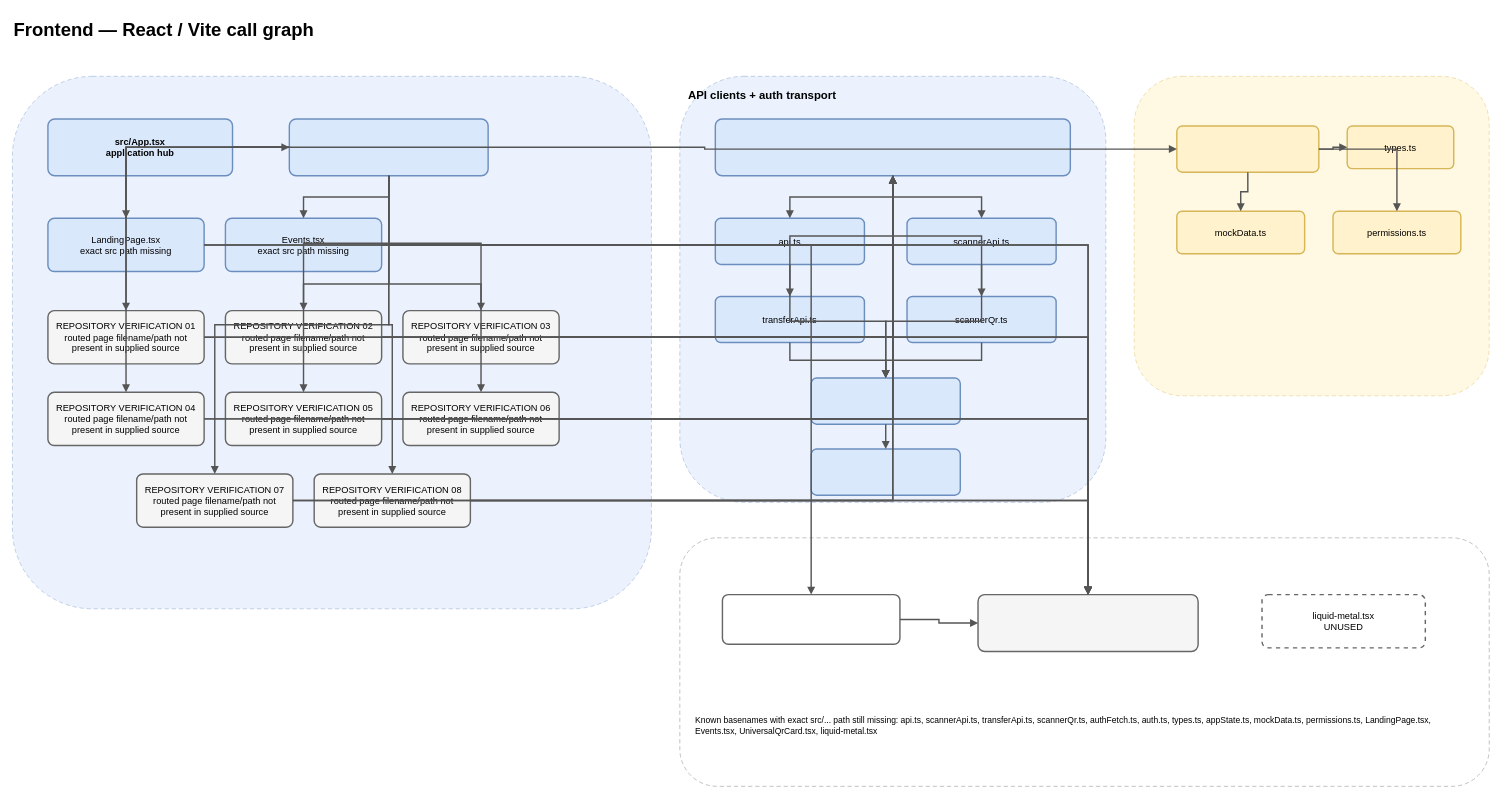
This 1502x799 diagram has some shape labels left out. The shapes that lost their labels are listed below. From the top down, each one's box as (x1, y1, x2, y2) in pixels, then its label:
(288, 118, 488, 176): Router / route declarations in App.tsx
(714, 118, 1071, 176): Documentation mapping pending Page → API client imports need repository scan
(1176, 125, 1319, 173): appState.ts
(1134, 76, 1489, 396): State spine
(12, 76, 651, 609): Routing / pages
(810, 377, 961, 425): authFetch.ts
(810, 448, 961, 496): auth.ts
(721, 594, 900, 645): UniversalQrCard.tsx
(977, 594, 1198, 652): components/ui/* member inventory needs repository scan not a runtime failure
(679, 537, 1489, 786): Shared UI / component relationships
